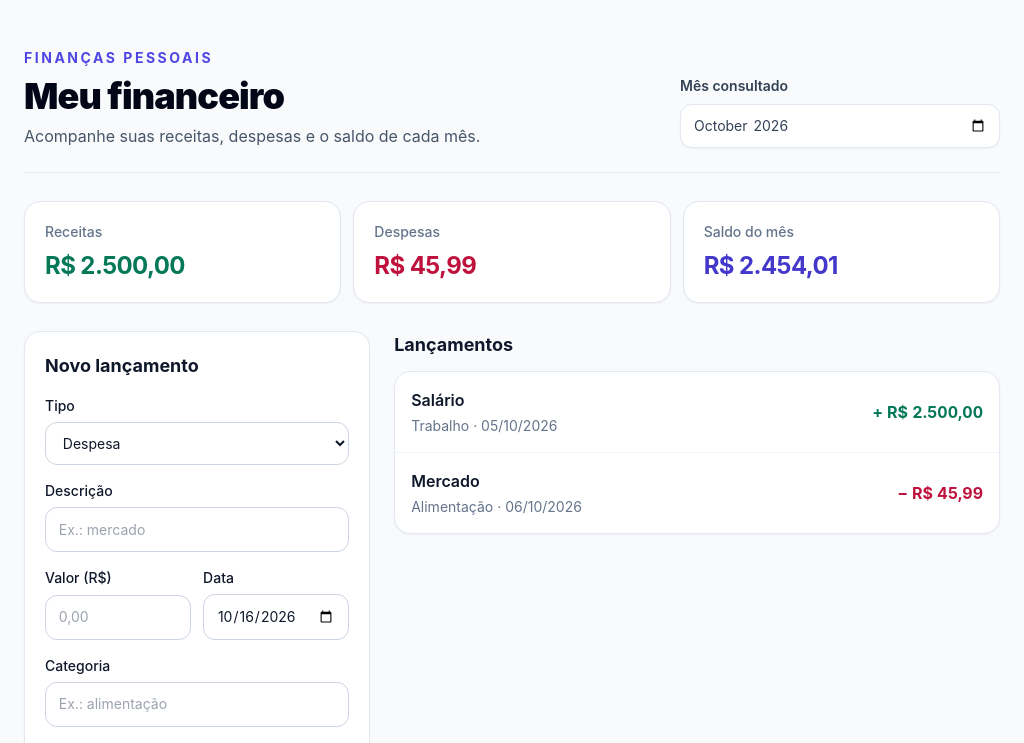
gerenciador financeiro › envia um lançamento e apresenta a confirmação
Expected: the text "Salário" is shown, [411,390,465,410]
Select "Receita" in the dropdown labelled "Tipo": (197, 444) [45,422,349,465]
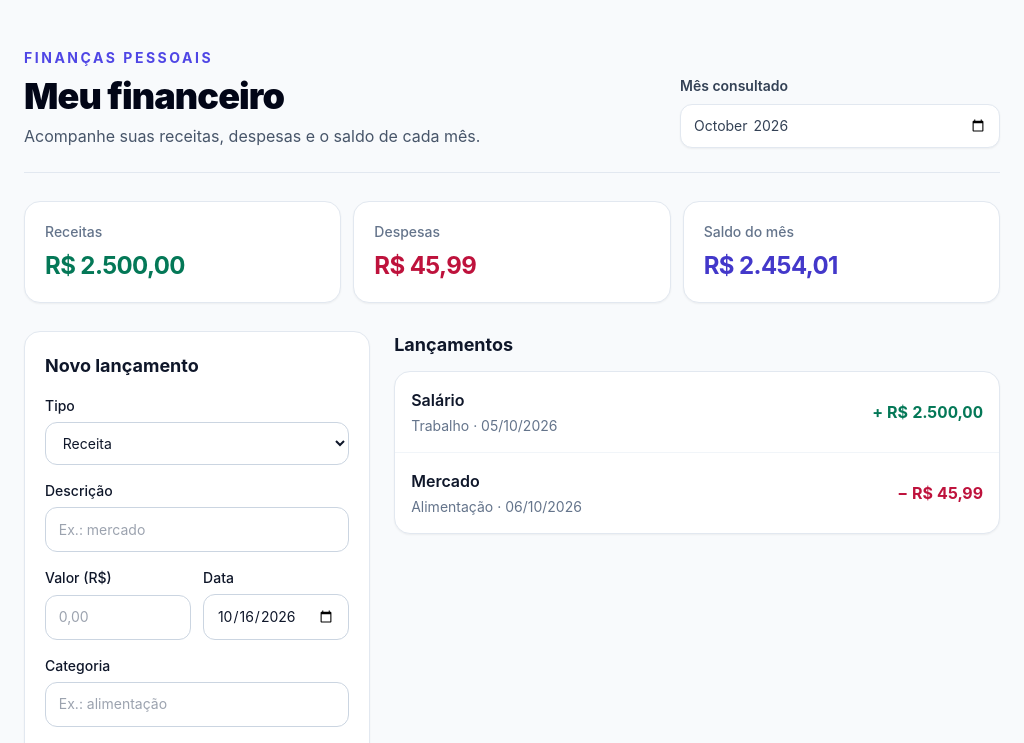
In the field labelled "Descrição": (197, 530) [45,507,349,552], type "Freela"
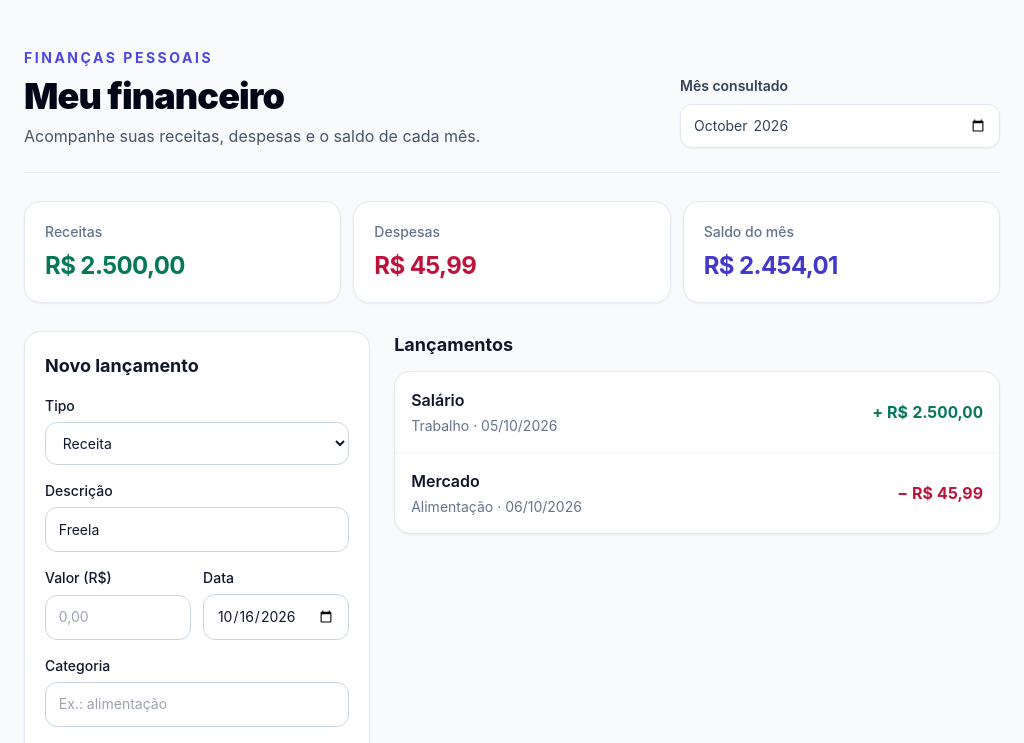
In the field labelled "Valor (R$)": (118, 618) [45,595,191,640], type "99,00"
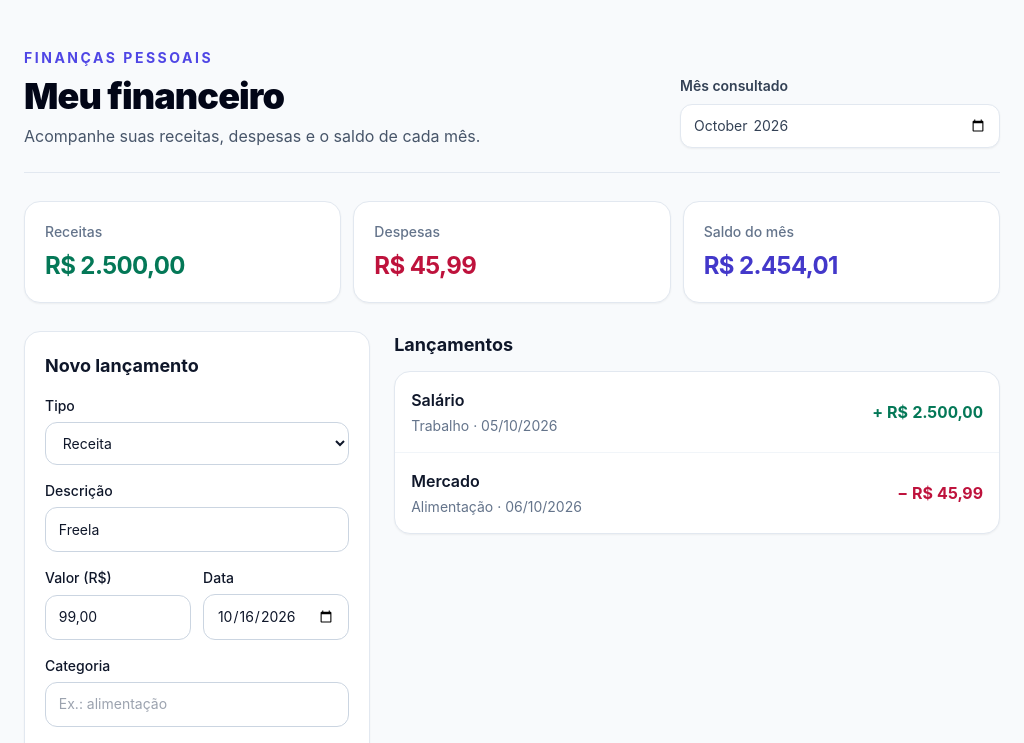
In the field labelled "Categoria": (197, 704) [45,682,349,726], type "Extra"
(page scrolled)
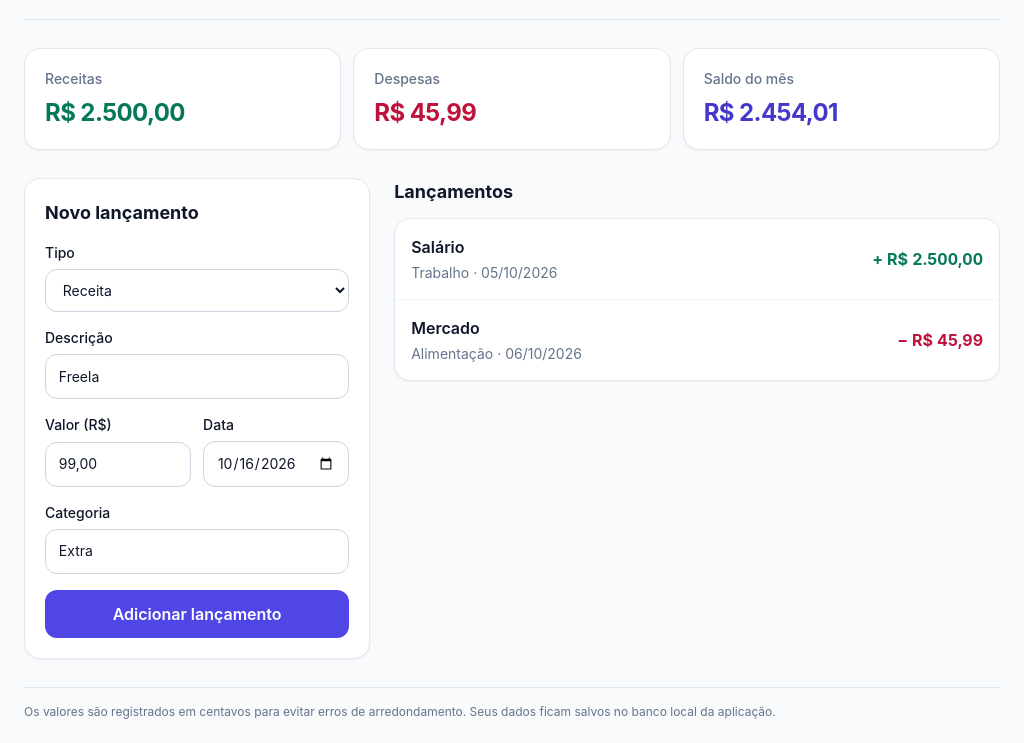
Click the button "Adicionar lançamento": (197, 614) [45,590,349,638]
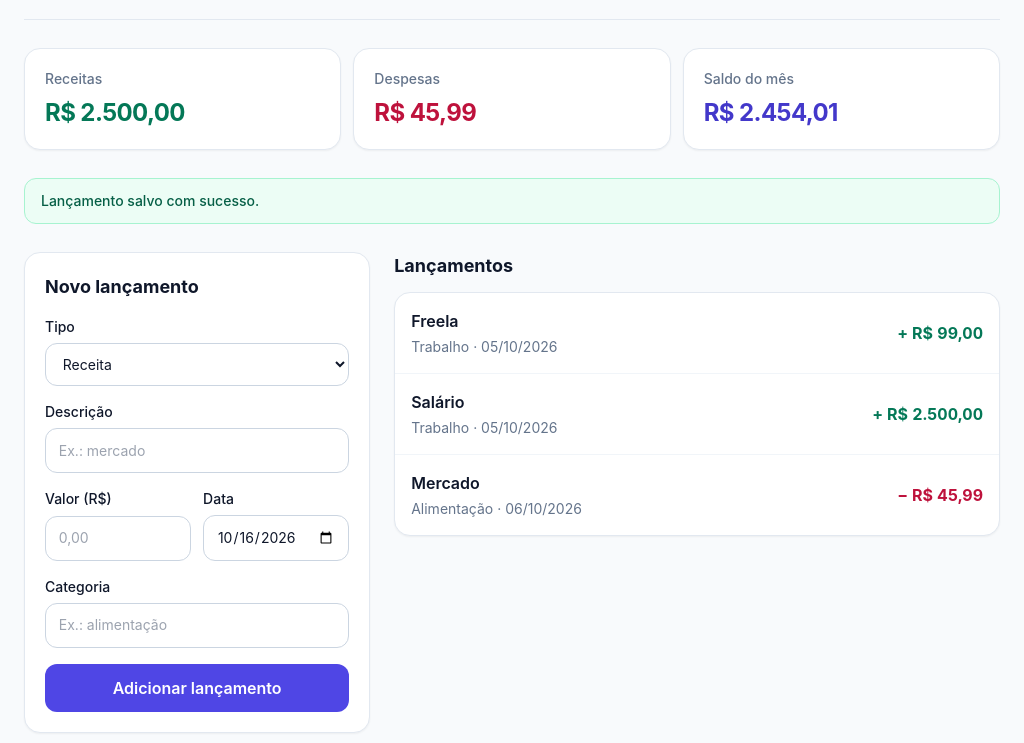
Result: the text "Lançamento salvo com sucesso." is shown at [24,178,1000,224]
